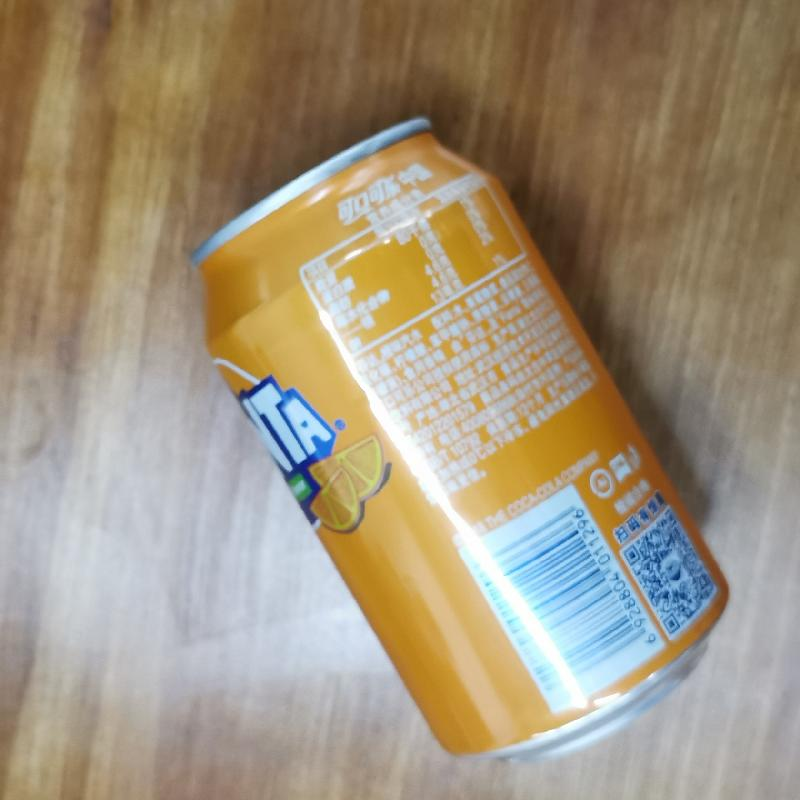cans: (186, 116, 729, 764)
